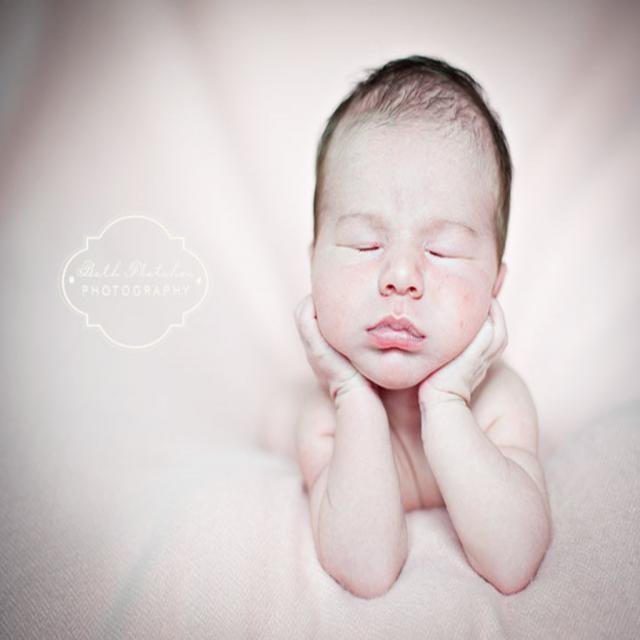closed-mouth: (368, 315, 423, 349)
